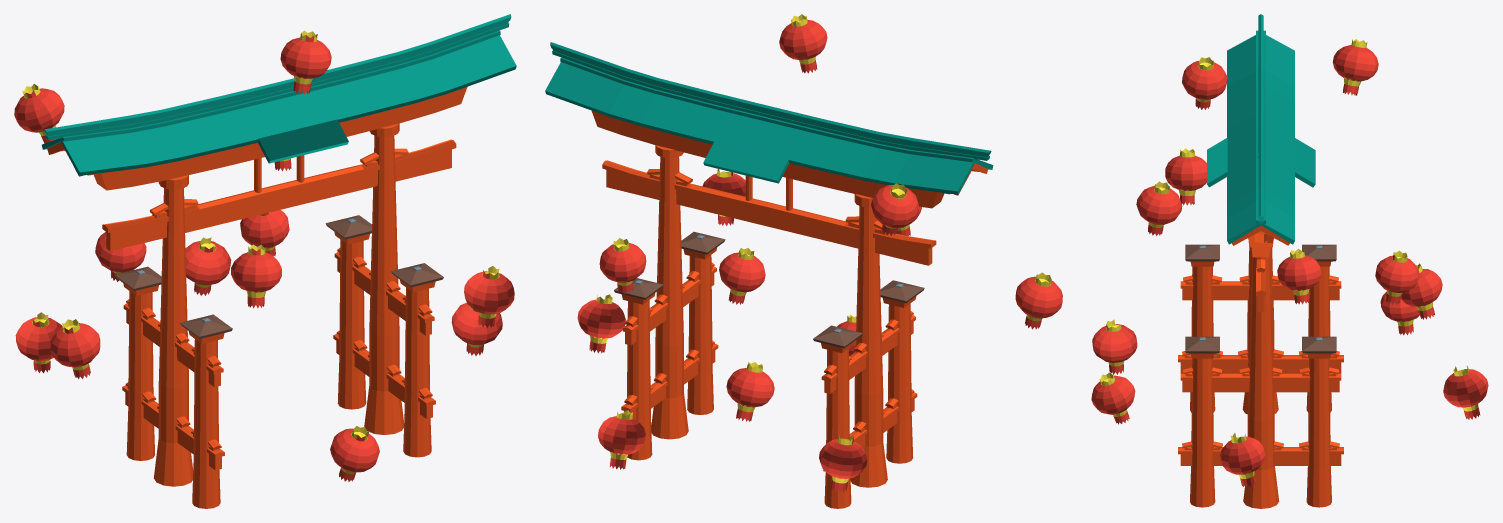
File: torii_hero_free.glb
The picture shows the model from 3 angles, left to right: view 1: azimuth 30°, elevation 25°; view 2: azimuth 150°, elevation 25°; view 3: azimuth 270°, elevation 25°; orthographic projection. The views are drawn at different scales.
Visible parts, largest first — view 1: group674213820, group2112404912, group2102673328, group1663585988, group1582756720, group1986319060, group679819663, group828070390, group1738134039, group1771167811, group711260887, group1696188762 (+10 smaller); view 2: group674213820, group2112404912, group2102673328, group1663585988, group1582756720, group1986319060, group679819663, group1562799948, group1771167811, group1190821758, group711260887, group1880701193 (+9 smaller); view 3: group674213820, group2112404912, group2102673328, group1112741560, group1738134039, group1771167811, group1582756720, group1696188762, group1880701193, group1342856348, group711260887, group467616785 (+11 smaller).
Boxes of the visible parts, x1,y1,x2,y2 form: group674213820: [277, 123, 456, 457]; group2112404912: [42, 82, 297, 190]; group2102673328: [280, 14, 516, 136]; group1663585988: [154, 188, 193, 486]; group1582756720: [192, 339, 220, 508]; group1986319060: [126, 291, 154, 460]; group679819663: [106, 193, 280, 251]; group828070390: [258, 119, 348, 163]; group1738134039: [231, 244, 281, 308]; group1771167811: [280, 30, 331, 94]; group711260887: [50, 319, 100, 378]; group1696188762: [464, 266, 514, 327]; group674213820: [602, 145, 770, 460]; group2112404912: [751, 106, 993, 208]; group2102673328: [545, 42, 768, 157]; group1663585988: [850, 206, 887, 487]; group1582756720: [886, 303, 913, 463]; group1986319060: [824, 348, 851, 508]; group679819663: [767, 211, 932, 265]; group1562799948: [703, 142, 789, 183]; group1771167811: [779, 14, 827, 73]; group1190821758: [726, 362, 774, 421]; group711260887: [1015, 272, 1062, 329]; group1880701193: [598, 410, 645, 469]; group674213820: [1178, 238, 1343, 508]; group2112404912: [1227, 14, 1294, 154]; group2102673328: [1227, 125, 1294, 257]; group1112741560: [1332, 39, 1378, 95]; group1738134039: [1136, 181, 1182, 235]; group1771167811: [1182, 57, 1227, 109]; group1582756720: [1190, 266, 1215, 412]; group1696188762: [1092, 319, 1137, 374]; group1880701193: [1443, 365, 1488, 419]; group1342856348: [1220, 433, 1265, 487]; group711260887: [1165, 148, 1206, 205]; group467616785: [1277, 249, 1321, 304].
Bounding box in the file's own units: 6.06 × 5.17 × 4.69.
